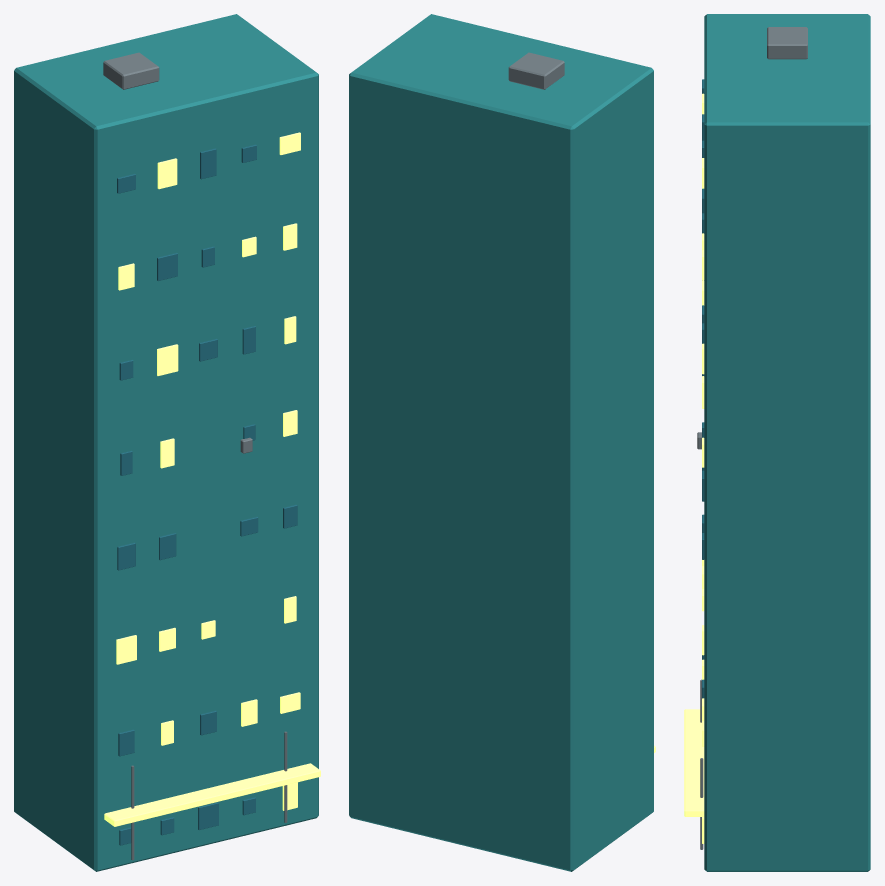
The model's file is building_020_seed11.glb.
3 views of the same model, side by side, from view 1: azimuth 30°, elevation 25°; view 2: azimuth 150°, elevation 25°; view 3: azimuth 270°, elevation 25° (orthographic).
Parts seen in each view (by area): view 1: building_020_seed11; view 2: building_020_seed11; view 3: building_020_seed11.
Part boxes in pixels (<box>): building_020_seed11: <box>14,14,320,871</box>; building_020_seed11: <box>349,14,655,871</box>; building_020_seed11: <box>684,14,870,871</box>.
Size of the model in its own units: 7.79 by 25.16 by 5.55.
